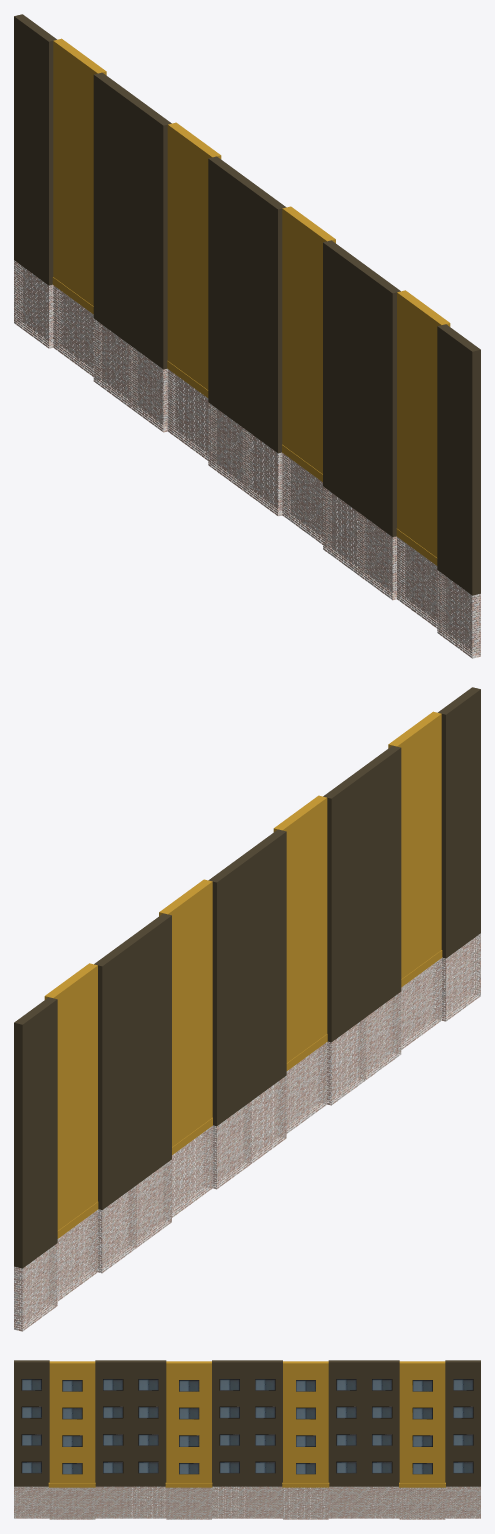
File: camelback_right.obj
3 renders of one model, top to bottom at view 1: azimuth 30°, elevation 25°; view 2: azimuth 150°, elevation 25°; view 3: azimuth 270°, elevation 25°, orthographic. The views are drawn at different scales.
Parts seen in each view (by area): view 1: Part124, Part50, Part81, Part19, Part112, Part103, Part41, Part10, Part72, Part31, Part62, Part93 (+12 smaller); view 2: Part10, Part81, Part50, Part112, Part19, Part31, Part93, Part124, Part62, Part72, Part103, Part41 (+12 smaller); view 3: Part112, Part19, Part50, Part81, Part41, Part93, Part62, Part10, Part72, Part103, Part31, Part124 (+64 smaller).
Boxes of the visible parts, x1=… form: Part124: x1=437, y1=324, x2=480, y2=595; Part50: x1=167, y1=122, x2=221, y2=389; Part81: x1=282, y1=206, x2=335, y2=473; Part19: x1=53, y1=38, x2=106, y2=305; Part112: x1=397, y1=290, x2=450, y2=557; Part103: x1=357, y1=266, x2=400, y2=536; Part41: x1=128, y1=98, x2=171, y2=369; Part10: x1=14, y1=14, x2=56, y2=285; Part72: x1=243, y1=182, x2=286, y2=453; Part31: x1=93, y1=72, x2=136, y2=343; Part62: x1=208, y1=156, x2=251, y2=427; Part93: x1=323, y1=240, x2=365, y2=511; Part10: x1=14, y1=997, x2=57, y2=1268; Part81: x1=273, y1=795, x2=327, y2=1062; Part50: x1=159, y1=879, x2=212, y2=1146; Part112: x1=388, y1=711, x2=441, y2=978; Part19: x1=44, y1=963, x2=97, y2=1230; Part31: x1=94, y1=939, x2=137, y2=1209; Part93: x1=323, y1=771, x2=366, y2=1042; Part124: x1=438, y1=687, x2=480, y2=958; Part62: x1=208, y1=855, x2=251, y2=1126; Part72: x1=243, y1=829, x2=286, y2=1100; Part103: x1=358, y1=745, x2=401, y2=1016; Part41: x1=129, y1=913, x2=171, y2=1184; Part112: x1=49, y1=1361, x2=95, y2=1483; Part19: x1=399, y1=1361, x2=445, y2=1483; Part50: x1=283, y1=1361, x2=328, y2=1483; Part81: x1=166, y1=1361, x2=211, y2=1483; Part41: x1=328, y1=1360, x2=364, y2=1486; Part93: x1=130, y1=1360, x2=166, y2=1486; Part62: x1=247, y1=1360, x2=282, y2=1486; Part10: x1=445, y1=1360, x2=480, y2=1486; Part72: x1=212, y1=1360, x2=247, y2=1486; Part103: x1=95, y1=1360, x2=130, y2=1486; Part31: x1=364, y1=1360, x2=399, y2=1486; Part124: x1=14, y1=1360, x2=49, y2=1486.
Bounding box in the file's own units: 3.2 × 68 × 184.
6 materials, 3 textured.
